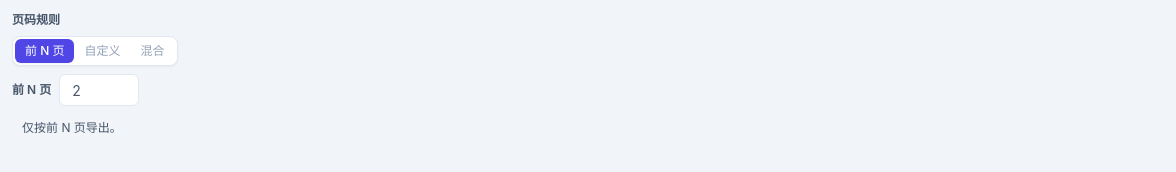
it: PageRuleInput › 点击「自定义」切换到自定义模式
The width and height of the screenshot is (1176, 172).
Click the button "自定义" at (102, 51), box 74,39 -> 130,63
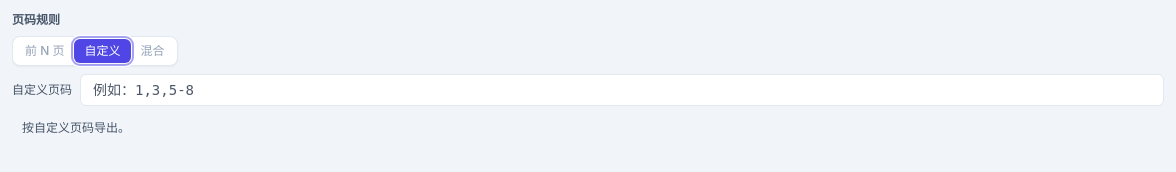
Now the field with placeholder "例如：1,3,5-8" is shown, box 80,74 -> 1164,106
